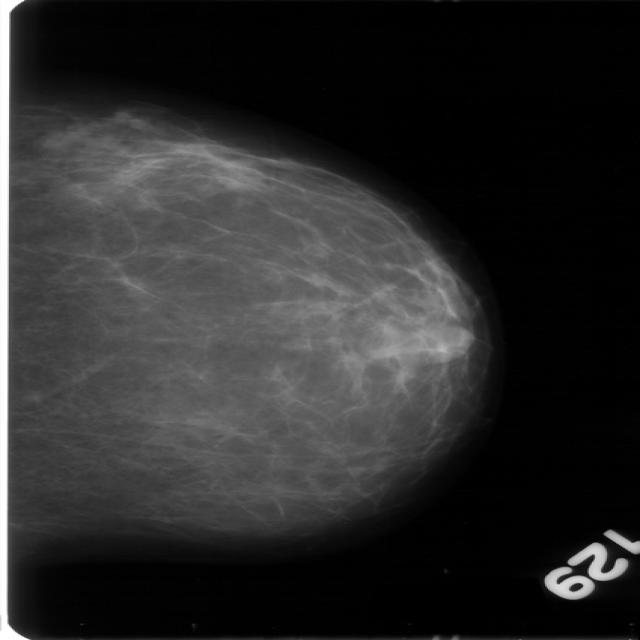tumour: (210, 156, 264, 191)
